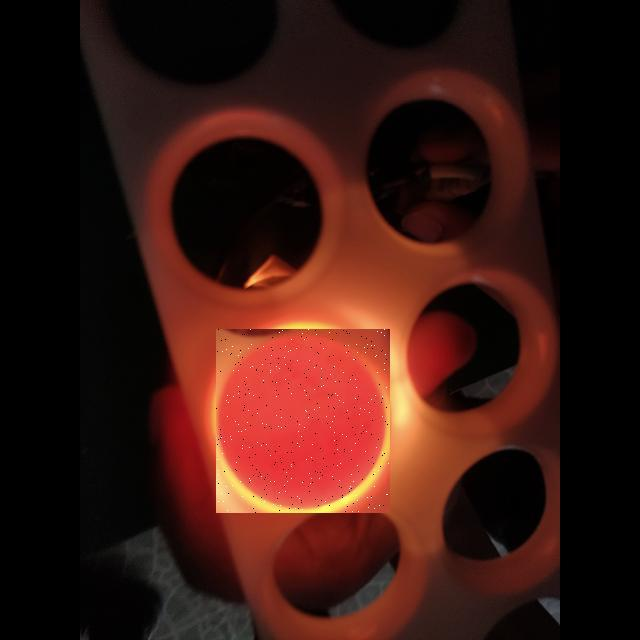A - Good: (216, 329, 390, 513)
